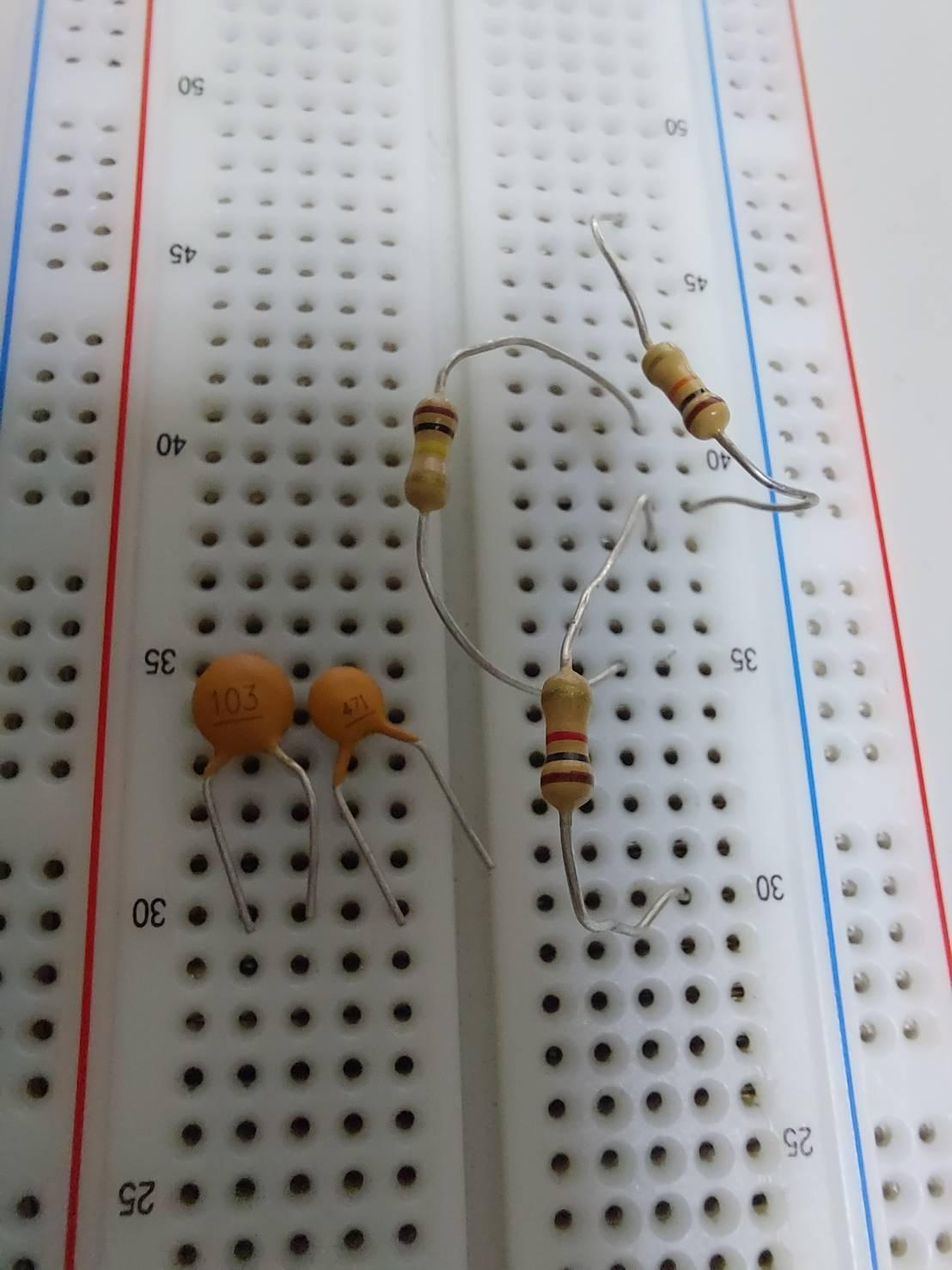resistor: (639, 341, 736, 442), (533, 673, 598, 803), (403, 396, 460, 510), (275, 133, 333, 232)
